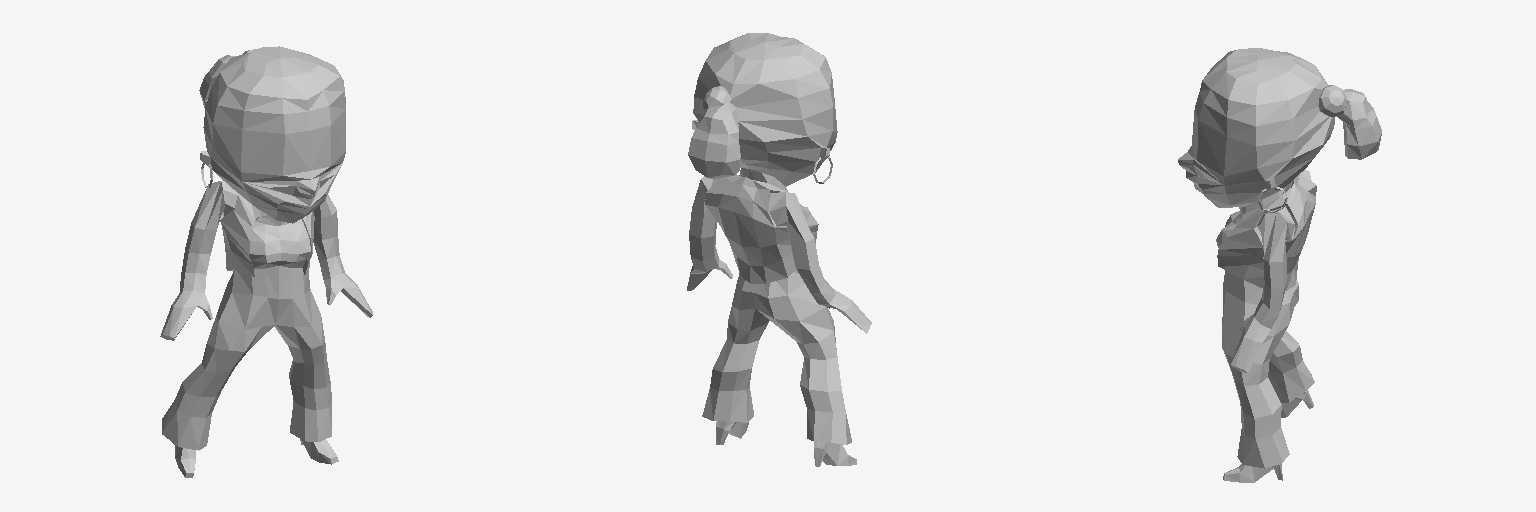
The model's file is bailarina_000054.obj.
The picture shows the model from 3 angles: view 1: azimuth 30°, elevation 25°; view 2: azimuth 150°, elevation 25°; view 3: azimuth 270°, elevation 25°; orthographic projection.
Parts seen in each view (by area): view 1: bAilarina:Mesh; view 2: bAilarina:Mesh; view 3: bAilarina:Mesh.
Part boxes in pixels (x1,y1,x2,y2): bAilarina:Mesh: (160, 46, 372, 477); bAilarina:Mesh: (687, 33, 871, 466); bAilarina:Mesh: (1178, 48, 1381, 482).
Size of the model in its own units: 8.58 by 17.04 by 7.81.